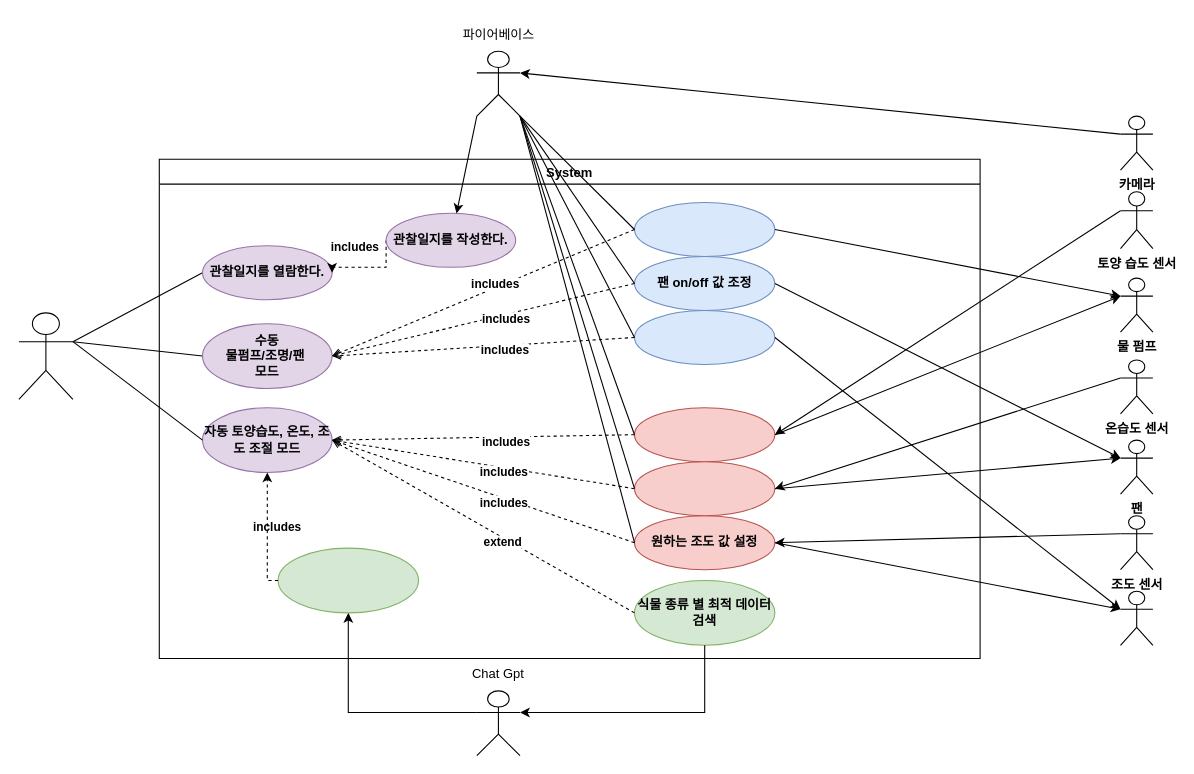
The diagram is 1194 pixels wide and 774 high, and some of its shapes have lost their labels. Each missing label, with the centre of its shape:
"LED" goes at (x=1136, y=617).
"물펌프 on/off 값 조정" goes at (x=704, y=228).
"사용자" goes at (x=45, y=355).
"식물 종류 별 환경 데이터 추천" goes at (x=347, y=580).
"원하는 온도 값 설정" goes at (x=704, y=488).
"원하는 토양습도 값 설정" goes at (x=704, y=434).
"조명 on/off 값 조정" goes at (x=704, y=336).
